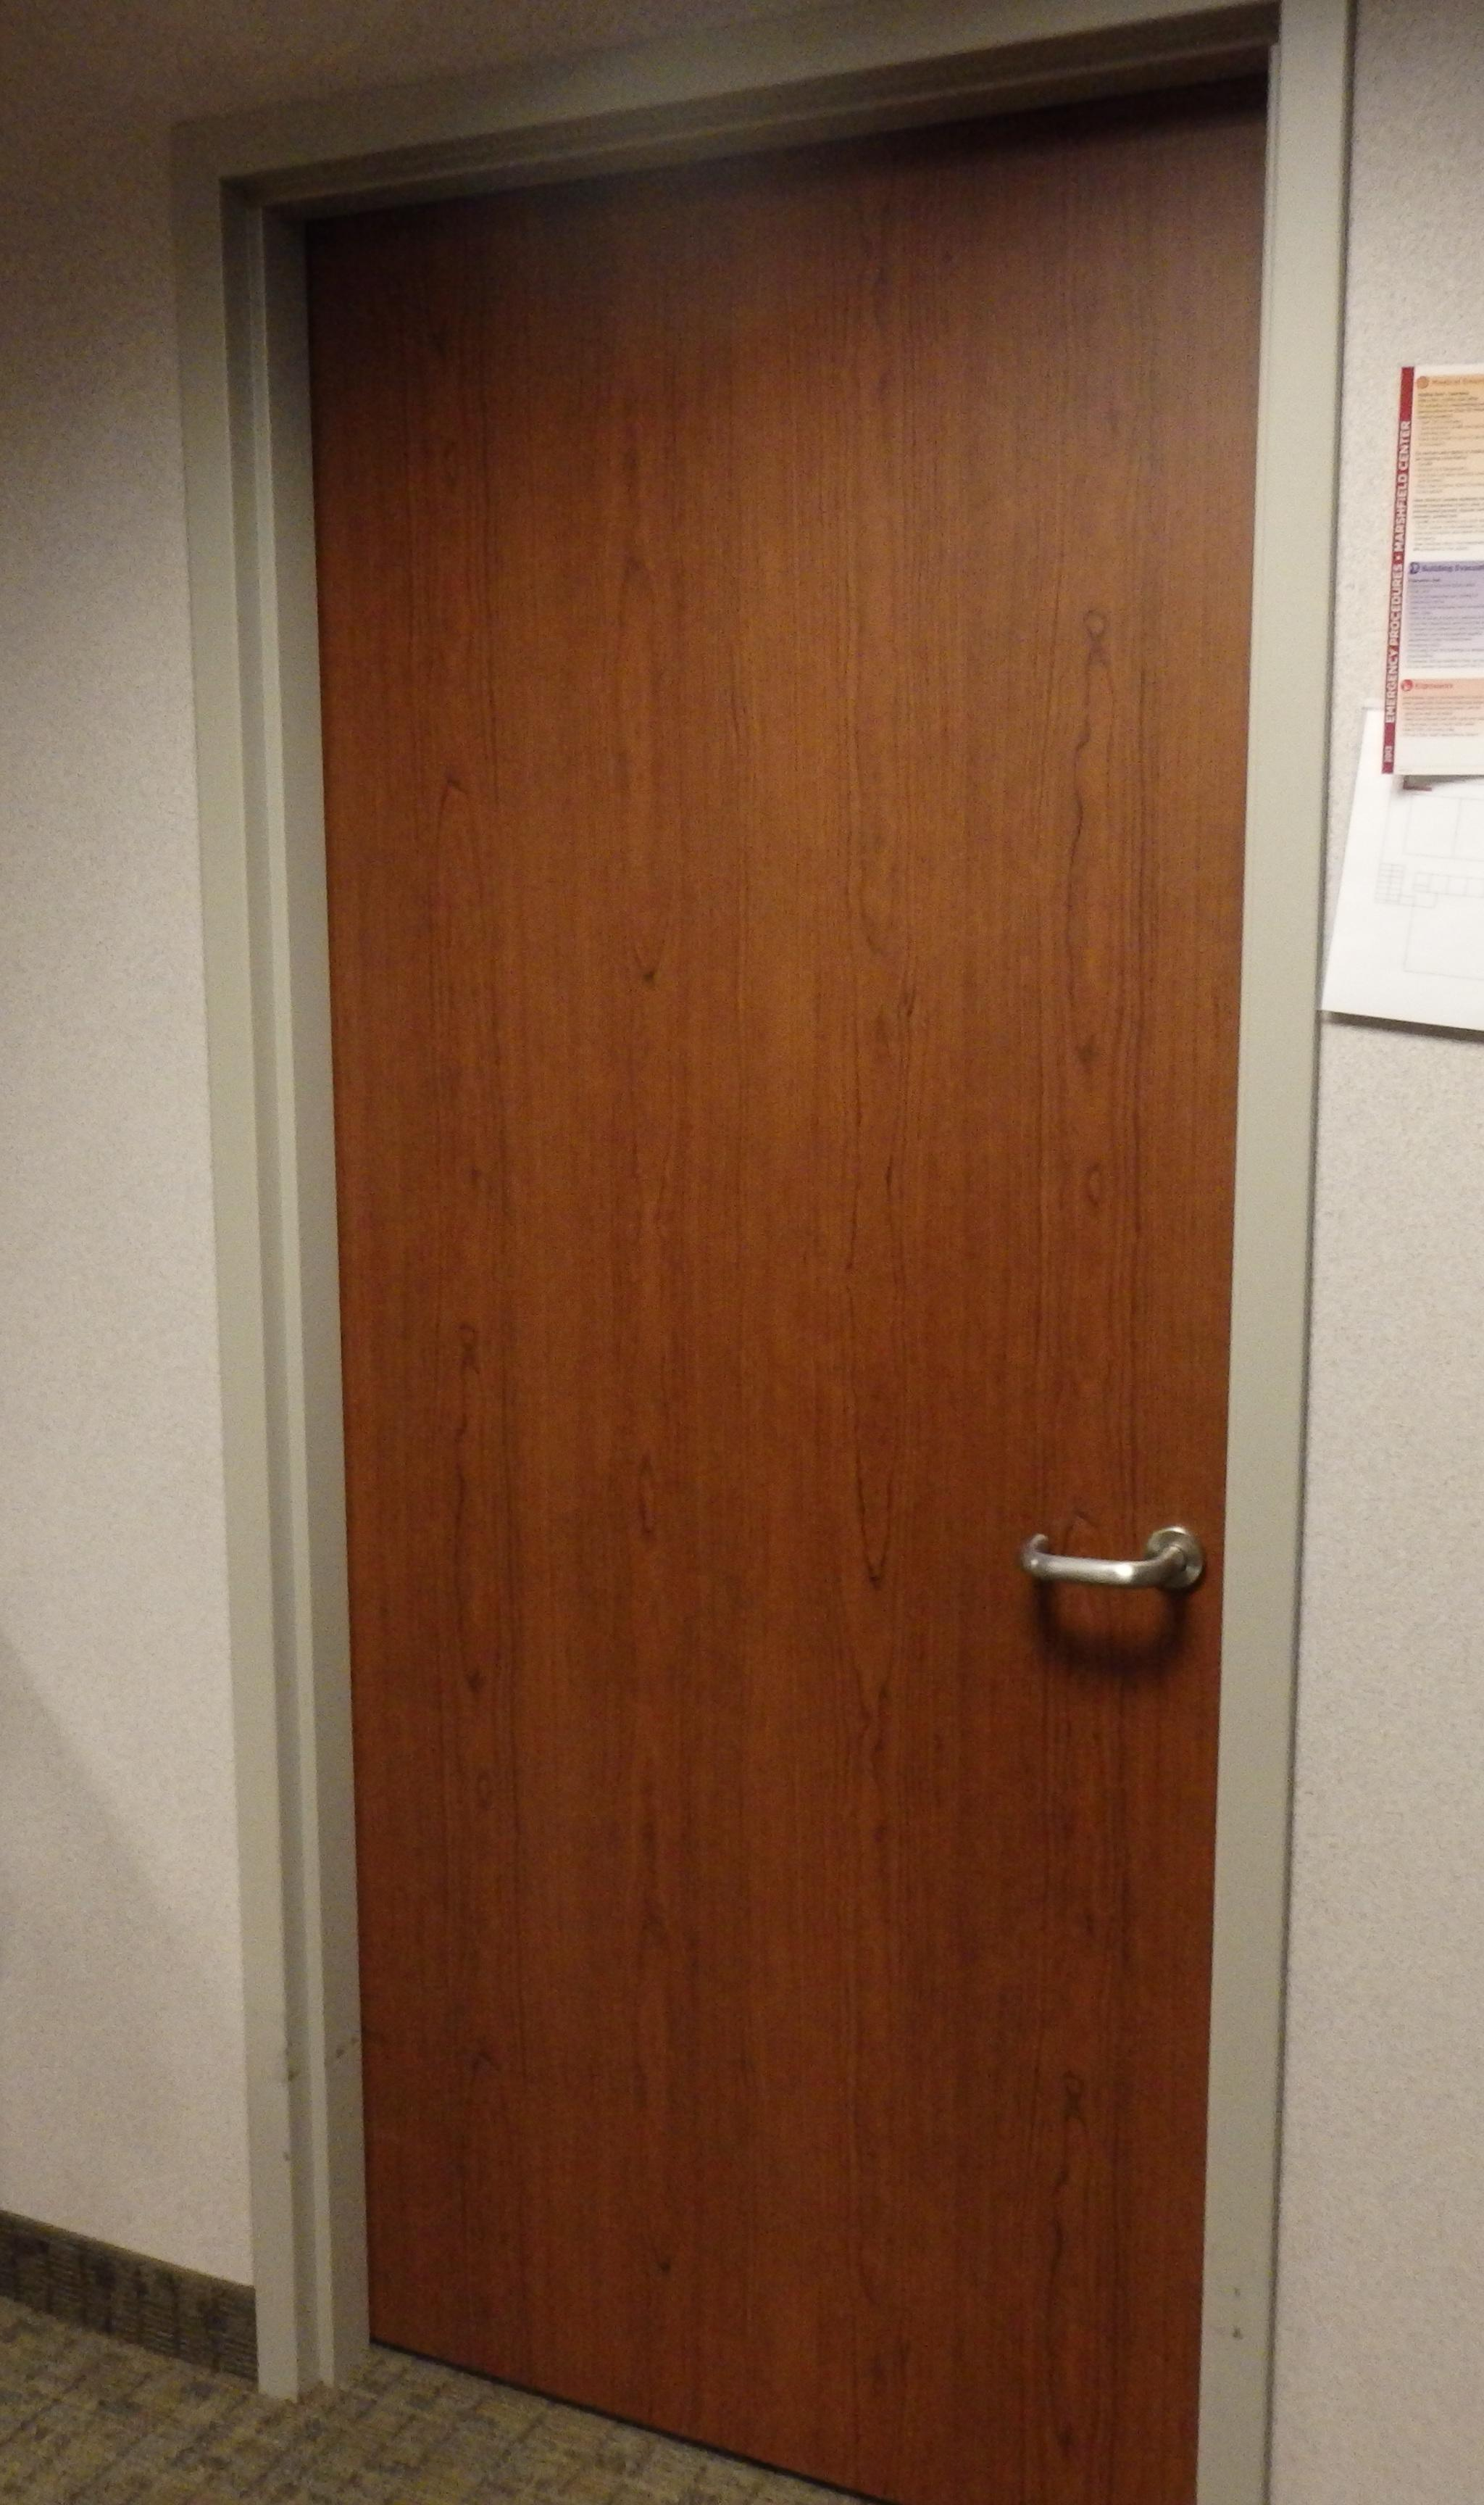door: (270, 39, 1307, 2500)
